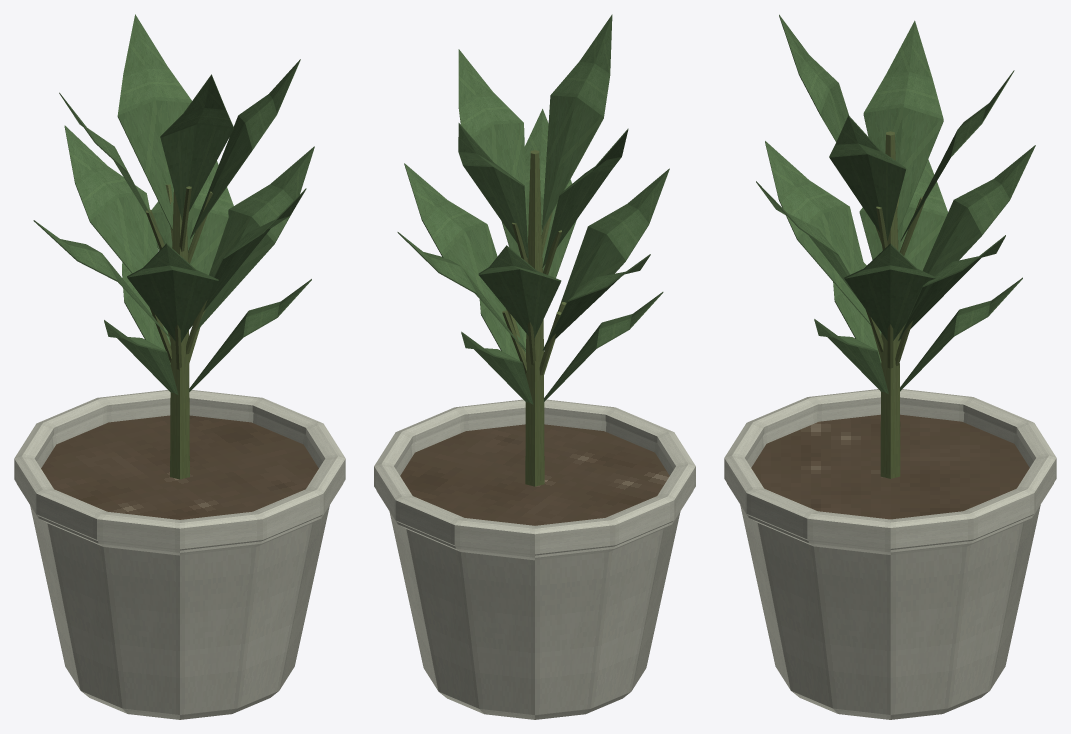
The model's file is plant_table.glb.
3 renders of one model, left to right at view 1: azimuth 30°, elevation 25°; view 2: azimuth 150°, elevation 25°; view 3: azimuth 270°, elevation 25°, orthographic. The views are drawn at different scales.
Parts seen in each view (by area): view 1: home_plant_table; view 2: home_plant_table; view 3: home_plant_table.
Part boxes in pixels (bbox=[...]): home_plant_table: bbox=[14, 14, 345, 719]; home_plant_table: bbox=[374, 14, 695, 719]; home_plant_table: bbox=[724, 14, 1056, 719].
Size of the model in its own units: 0.13 by 0.2805 by 0.13.
Materials: 1 (1 with a texture image).
